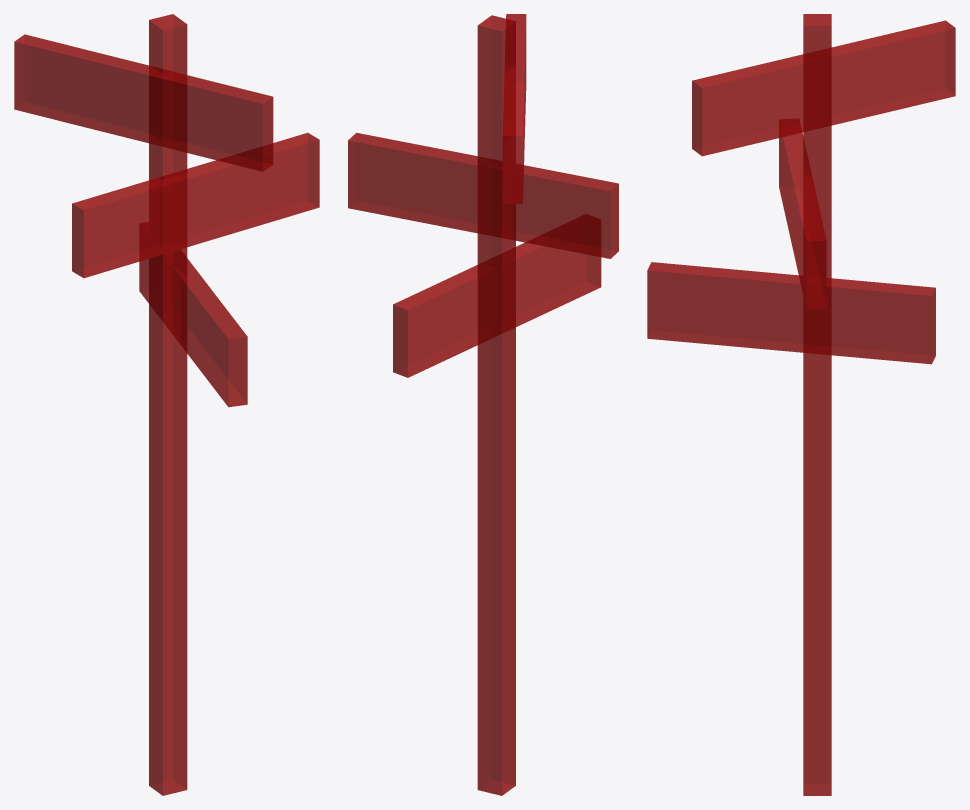
File: SM_Prop_Sign_02_Collision.fbx
The picture shows the model from 3 angles, left to right: view 1: azimuth 30°, elevation 25°; view 2: azimuth 150°, elevation 25°; view 3: azimuth 270°, elevation 25°; orthographic projection.
Parts seen in each view (by area): view 1: SM_Prop_Sign_02_Collision; view 2: SM_Prop_Sign_02_Collision; view 3: SM_Prop_Sign_02_Collision.
Part boxes in pixels (box(x1,y1,x2,y2)): SM_Prop_Sign_02_Collision: box(14, 14, 319, 795); SM_Prop_Sign_02_Collision: box(348, 14, 618, 795); SM_Prop_Sign_02_Collision: box(647, 14, 955, 795).
Size of the model in its own units: 102 by 297 by 108.
